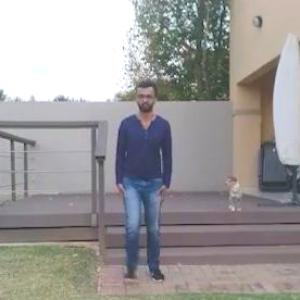follow: (116, 65, 185, 299)
